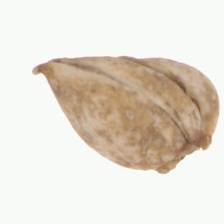L1: (163, 128, 214, 171), (30, 49, 90, 80)
L2: (30, 53, 220, 174)
